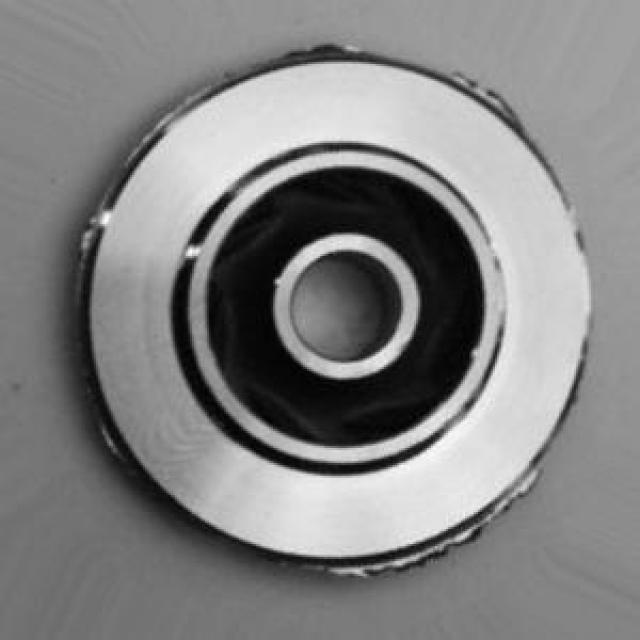Defect: (455, 64, 500, 115)
